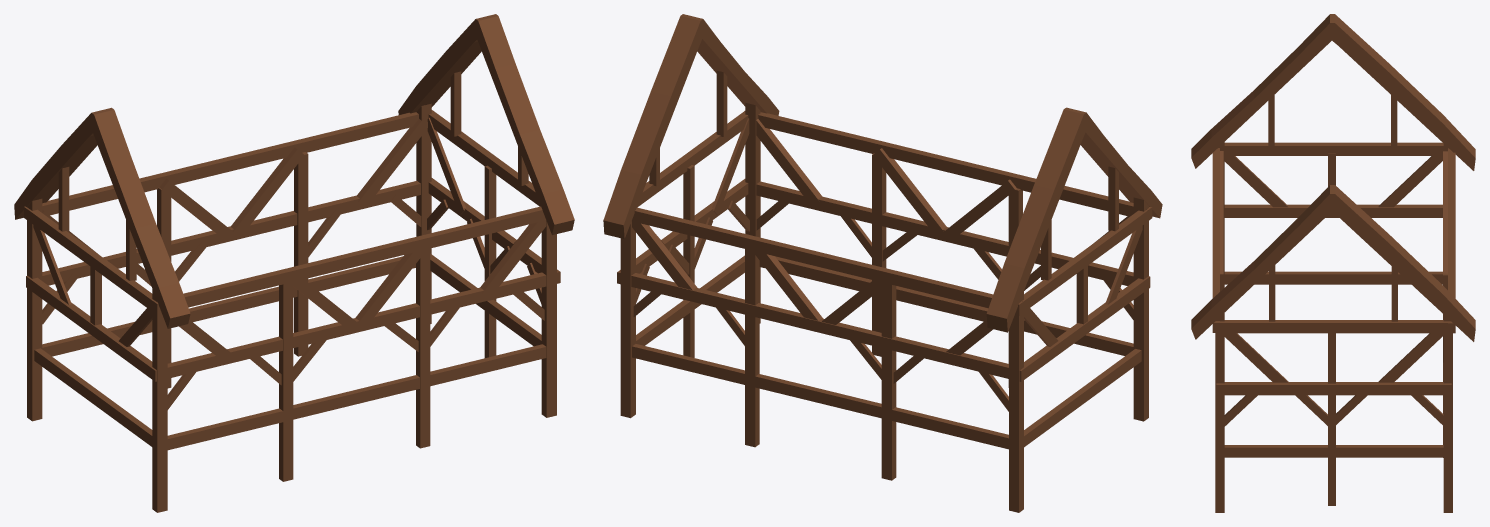
Rendered from BuildingFirst.fbx.
3 renders of one model, left to right at view 1: azimuth 30°, elevation 25°; view 2: azimuth 150°, elevation 25°; view 3: azimuth 270°, elevation 25°, orthographic. The views are drawn at different scales.
Parts seen in each view (by area): view 1: BuildingFirst; view 2: BuildingFirst; view 3: BuildingFirst.
Boxes of the visible parts, x1,y1,x2,y2 form: BuildingFirst: (14, 14, 574, 512); BuildingFirst: (603, 14, 1162, 512); BuildingFirst: (1191, 14, 1475, 512).
Size of the model in its own units: 7.65 by 6.34 by 5.09.
